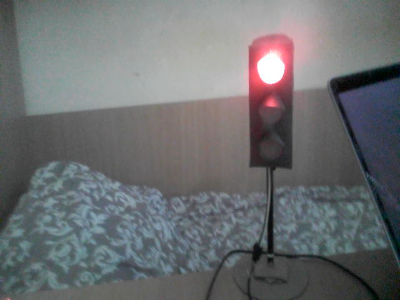trafficlight_red: (249, 44, 294, 168)
